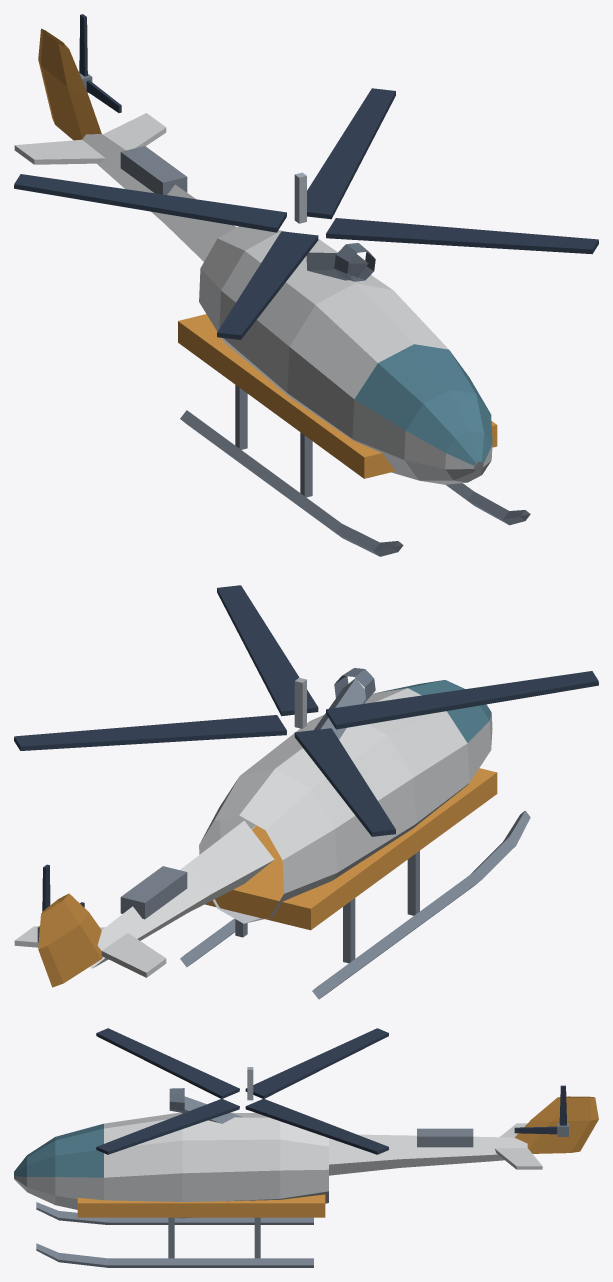
File: helicopter.glb
3 views of the same model, one above another, from view 1: azimuth 30°, elevation 25°; view 2: azimuth 150°, elevation 25°; view 3: azimuth 270°, elevation 25° (orthographic). The views are drawn at different scales.
Visible parts, largest first — view 1: helicopter; view 2: helicopter; view 3: helicopter.
Part boxes in pixels (box(x1,y1,x2,y2)): helicopter: box(14, 14, 598, 556); helicopter: box(14, 585, 598, 999); helicopter: box(14, 1028, 598, 1267).
Bounding box in the file's own units: 7.81 × 5.24 × 15.6.
